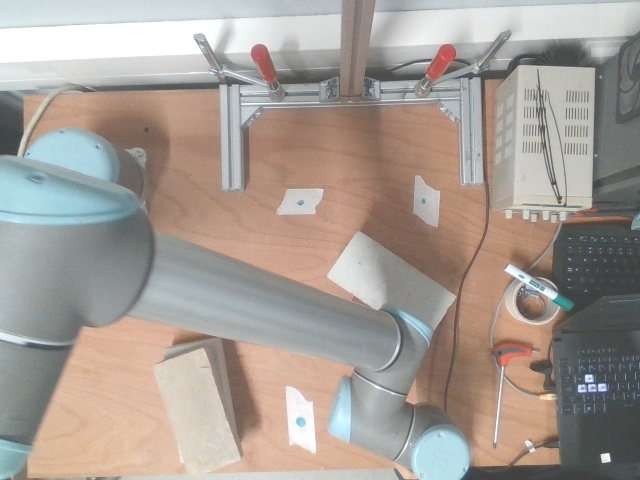brick: (152, 347, 243, 479)
